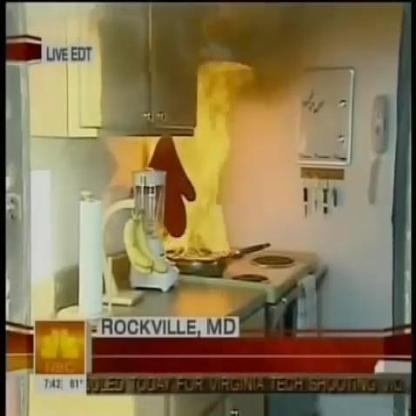fire: (162, 60, 247, 258)
